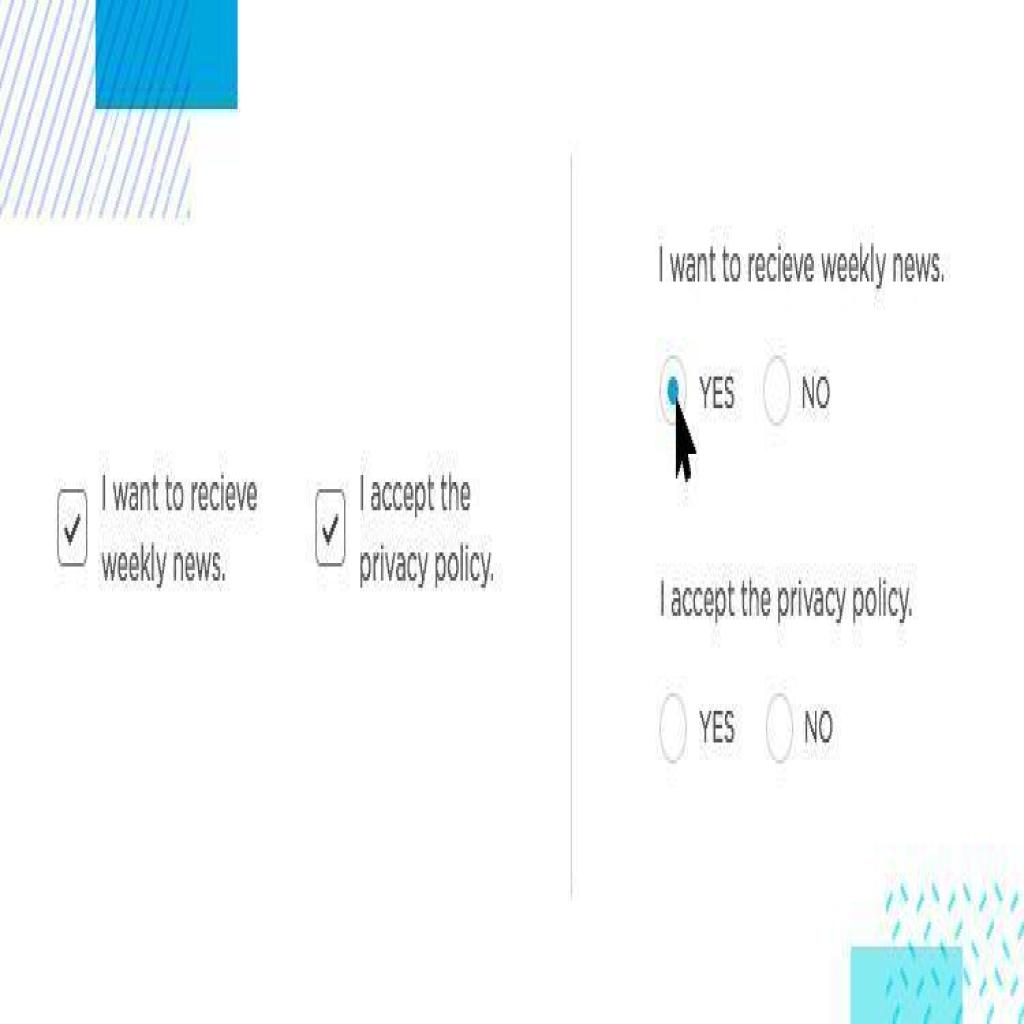checkbox: (58, 489, 88, 567), (317, 489, 345, 563)
label: (355, 443, 507, 609), (97, 454, 262, 605), (695, 690, 737, 770), (796, 362, 837, 426), (695, 359, 740, 415), (800, 696, 842, 756)
radio: (850, 939, 964, 1024), (656, 693, 690, 771), (660, 359, 692, 436), (760, 356, 792, 430), (766, 686, 795, 764)
